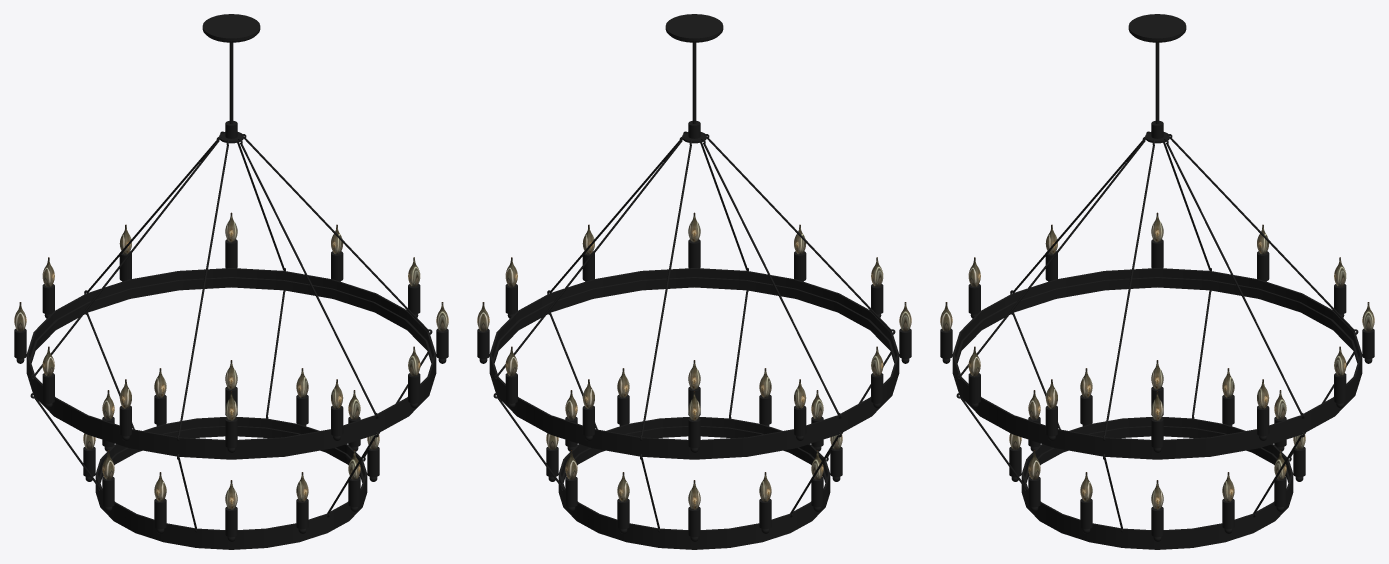
File: Candelabro.dae
3 renders of one model, left to right at view 1: azimuth 30°, elevation 25°; view 2: azimuth 150°, elevation 25°; view 3: azimuth 270°, elevation 25°, orthographic.
Visible parts, largest first — view 1: group_0 (×3), group_1 (×3), Group12_1 (×5), group_2; view 2: group_0 (×3), group_1 (×3), Group12_1 (×5), group_2; view 3: group_0 (×3), group_1 (×3), Group12_1 (×5), group_2.
Boxes of the visible parts, x1,y1,x2,y2 form: group_0 (×3): (26, 268, 436, 459); group_1 (×3): (95, 416, 367, 549); Group12_1 (×5): (30, 131, 432, 441); group_2: (202, 14, 260, 123); group_0 (×3): (489, 268, 899, 459); group_1 (×3): (558, 416, 830, 549); Group12_1 (×5): (493, 131, 895, 441); group_2: (665, 14, 723, 123); group_0 (×3): (952, 268, 1362, 459); group_1 (×3): (1021, 416, 1293, 549); Group12_1 (×5): (956, 131, 1358, 441); group_2: (1128, 14, 1186, 123).
Size of the model in its own units: 41.55 by 41.55 by 49.21.
Materials: 2 (1 with a texture image).
